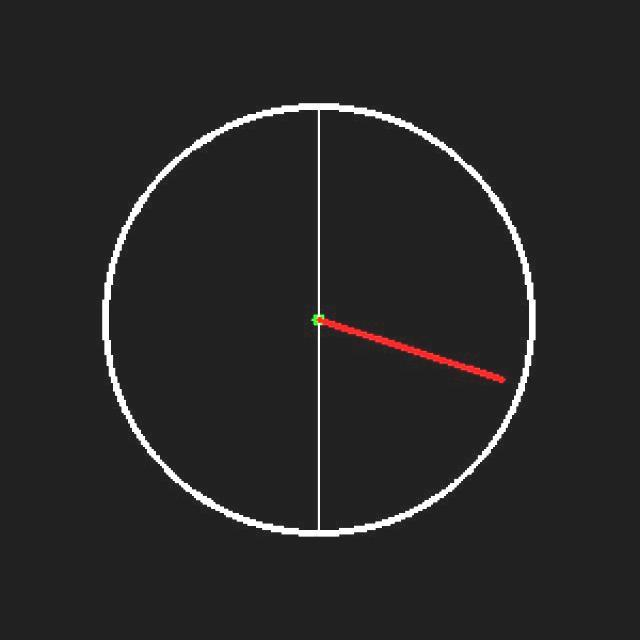Needle_Tip: (477, 355, 524, 396)
Needle_base: (280, 283, 342, 356)
